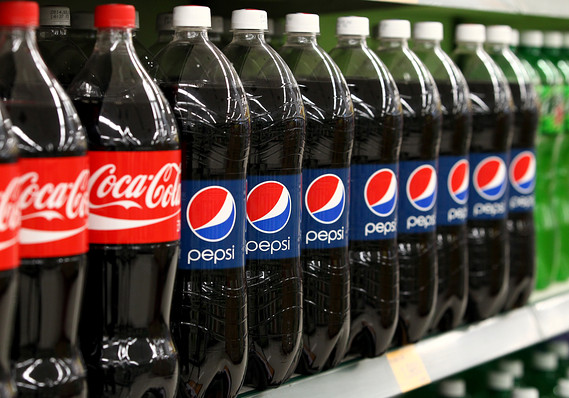pepsi: (182, 182, 232, 243), (185, 182, 232, 243), (185, 183, 232, 243), (247, 178, 289, 233), (305, 173, 342, 222), (364, 167, 395, 213), (475, 154, 503, 196), (407, 165, 434, 206), (512, 149, 534, 189), (448, 159, 466, 201)
